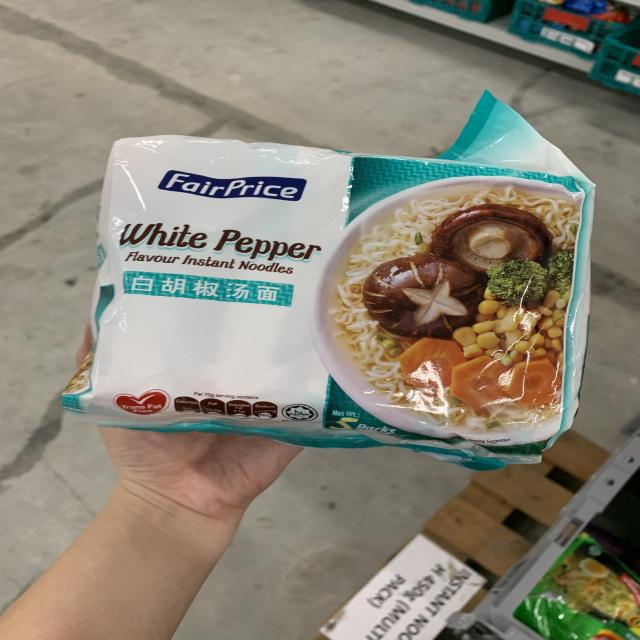object_name: (102, 138, 557, 453)
